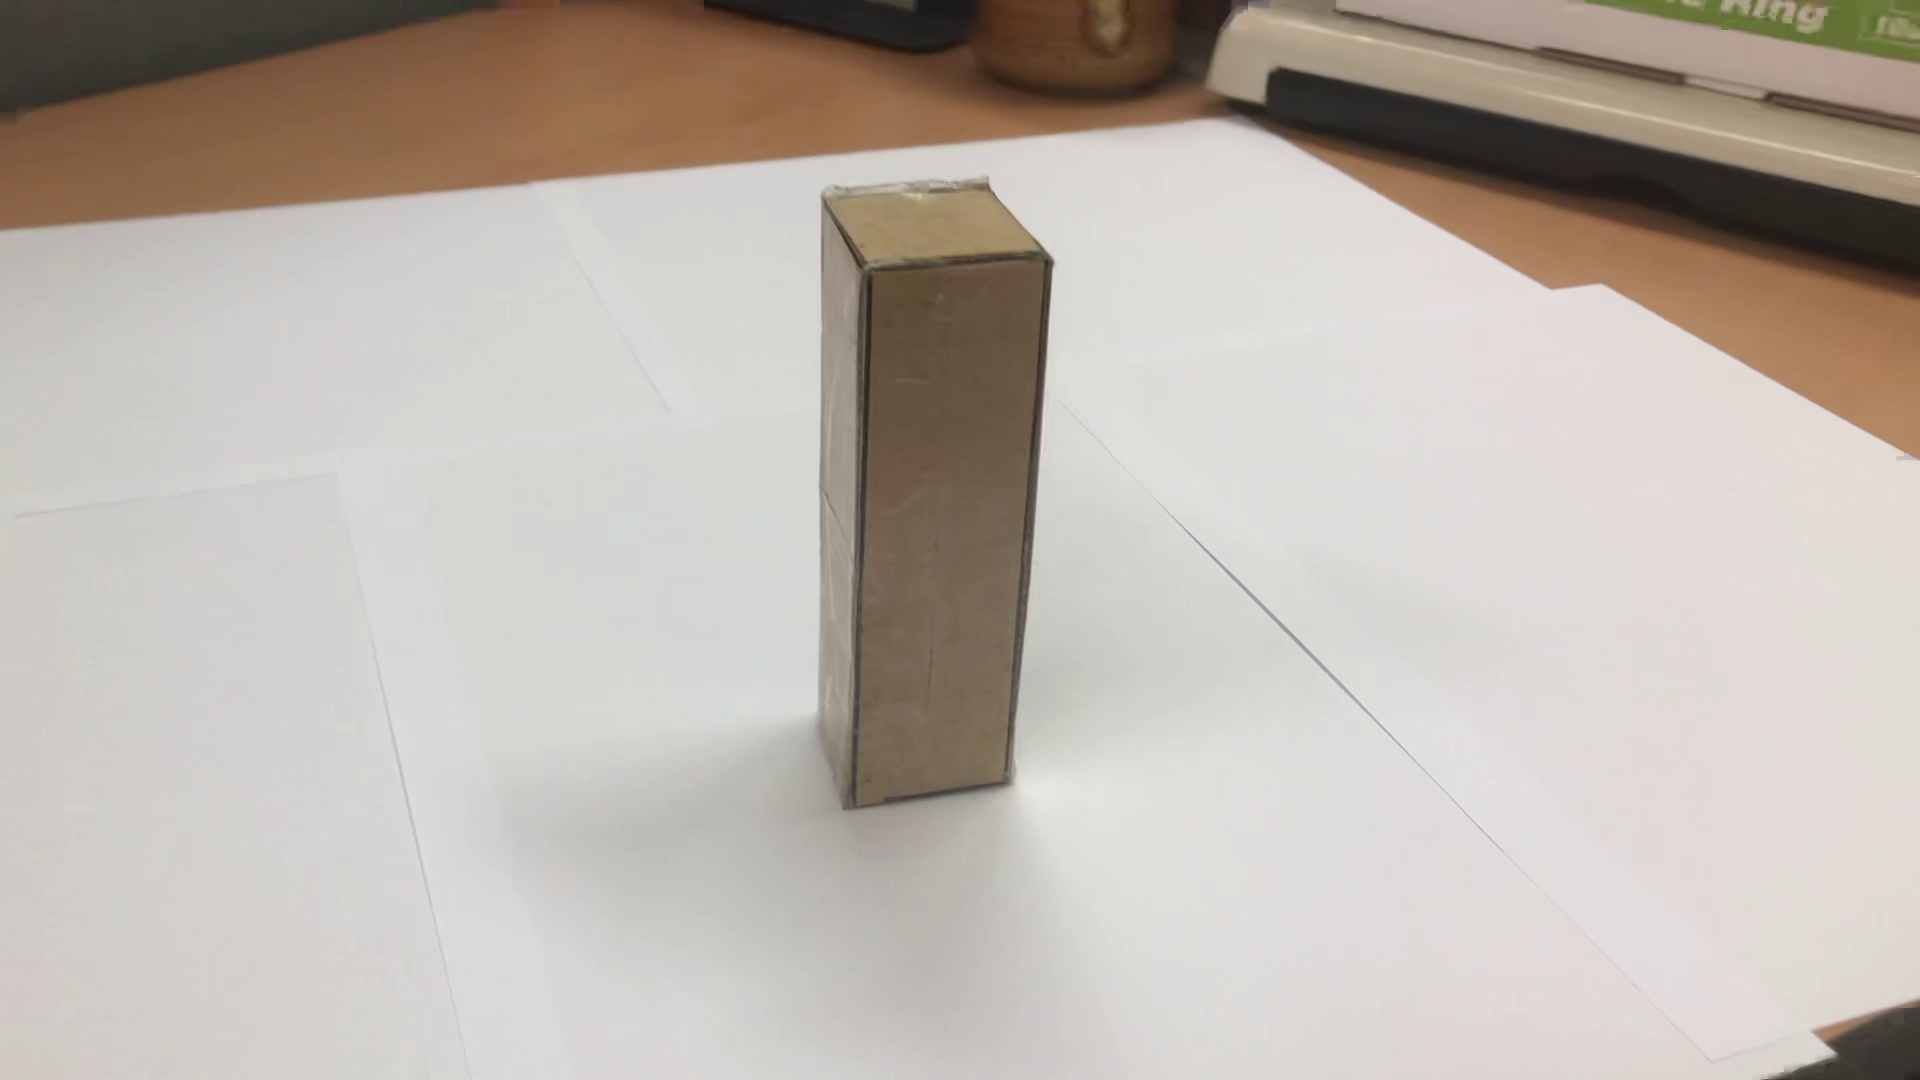box: (793, 164, 1084, 856)
